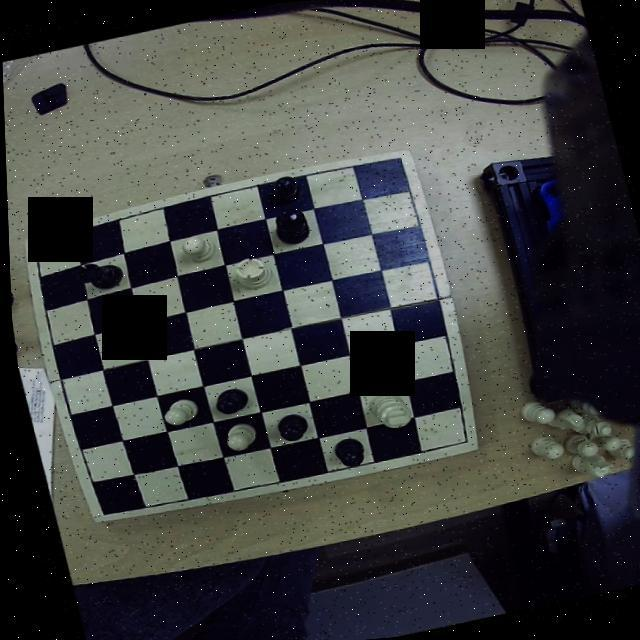chess-table-corners: (381, 149, 410, 175), (448, 426, 476, 451), (86, 502, 117, 522), (20, 237, 46, 260)
